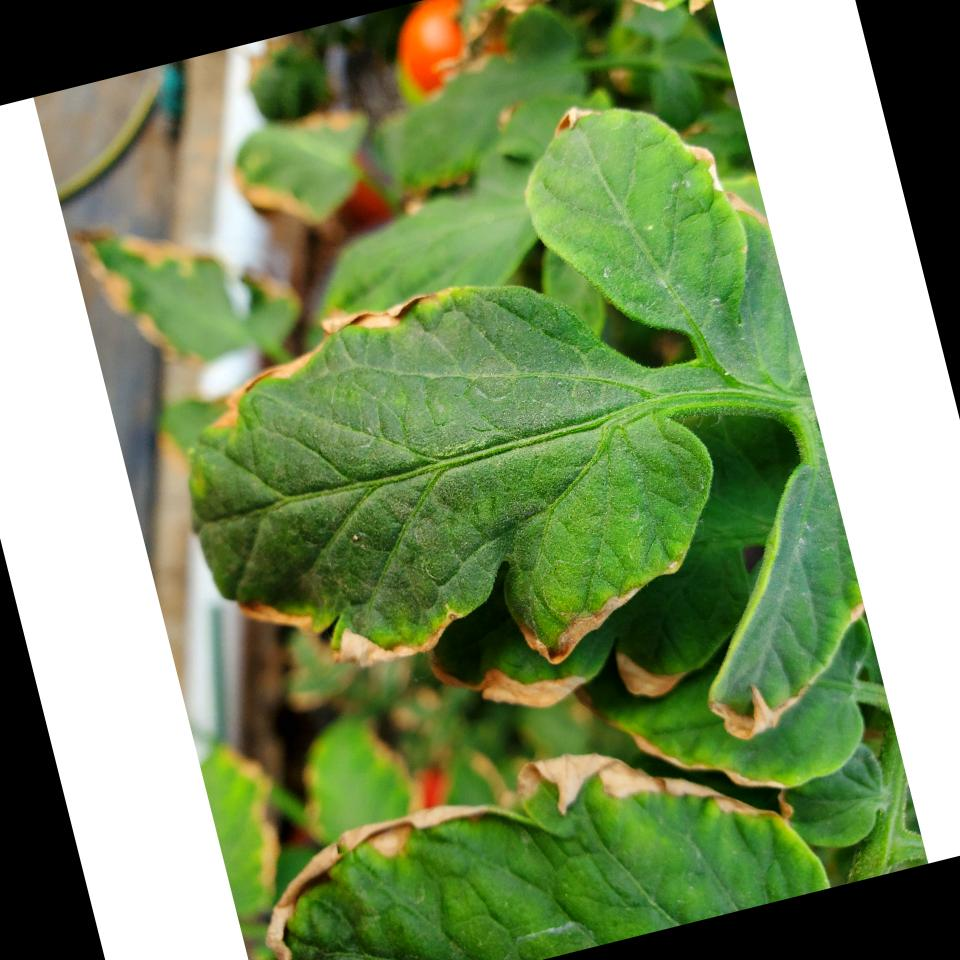tomato_bacterial_blight: (149, 241, 756, 746), (219, 671, 927, 960)
